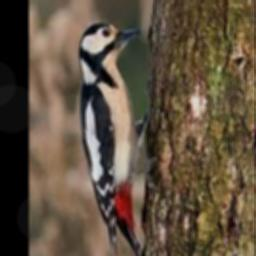Woodpecker: (79, 21, 162, 256)
